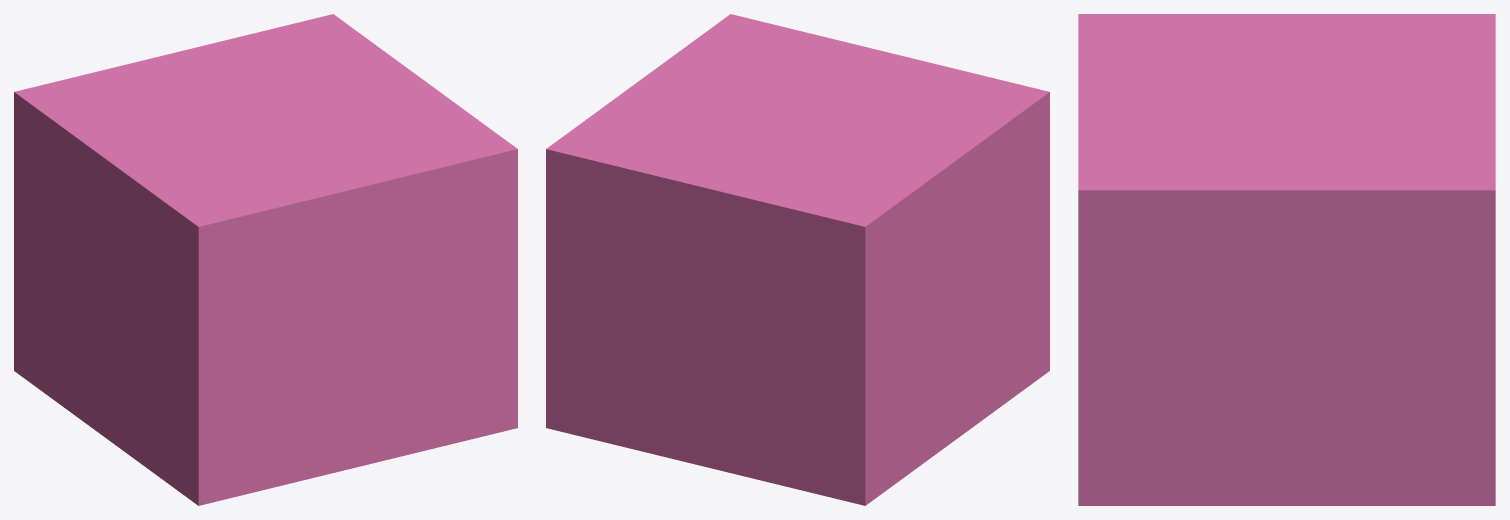
3 views of the same model, side by side, from view 1: azimuth 30°, elevation 25°; view 2: azimuth 150°, elevation 25°; view 3: azimuth 270°, elevation 25° (orthographic). The views are drawn at different scales.
Visible parts, largest first — view 1: Loader; view 2: Loader; view 3: Loader.
Boxes of the visible parts, x1=… form: Loader: x1=14, y1=14, x2=517, y2=505; Loader: x1=546, y1=14, x2=1049, y2=505; Loader: x1=1078, y1=14, x2=1495, y2=505.
Bounding box in the file's own units: 9.6 × 8.02 × 9.61.
